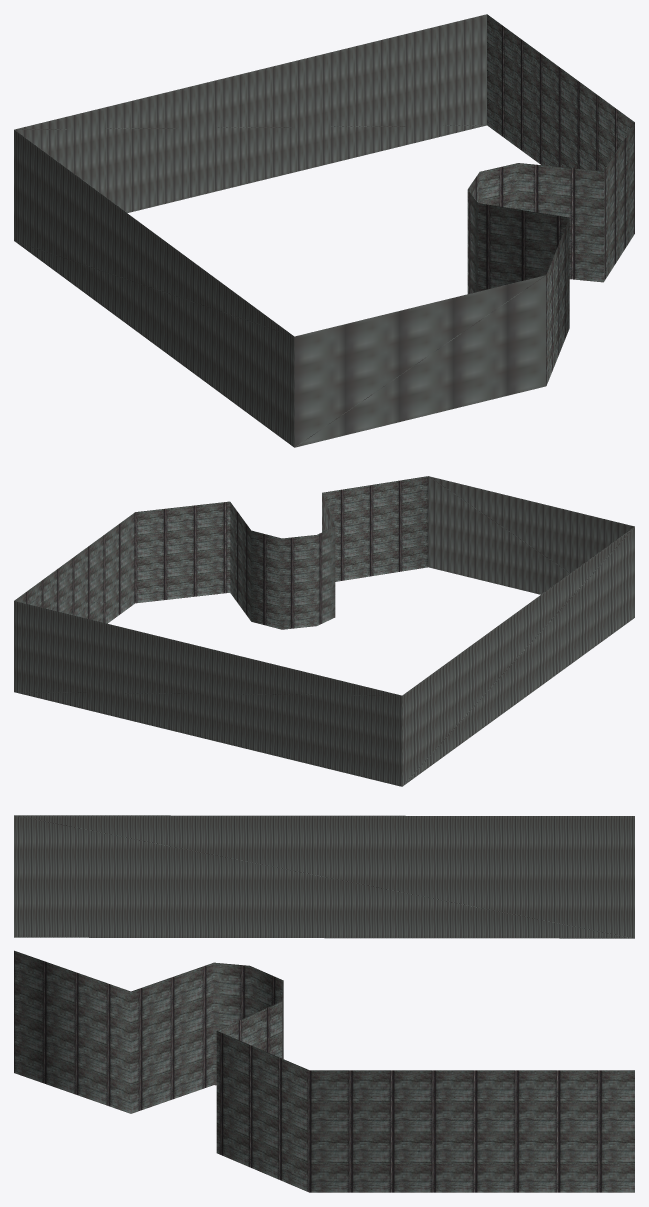
The model's file is LAKETOWN_EXTERIOR_PS_LT_LINE010.fbx.
3 renders of one model, top to bottom at view 1: azimuth 30°, elevation 25°; view 2: azimuth 150°, elevation 25°; view 3: azimuth 270°, elevation 25°, orthographic. The views are drawn at different scales.
Parts seen in each view (by area): view 1: LAKETOWN_EXTERIOR_PS_LT_LINE010; view 2: LAKETOWN_EXTERIOR_PS_LT_LINE010; view 3: LAKETOWN_EXTERIOR_PS_LT_LINE010.
Boxes of the visible parts, x1,y1,x2,y2 form: LAKETOWN_EXTERIOR_PS_LT_LINE010: (14,14,634,447); LAKETOWN_EXTERIOR_PS_LT_LINE010: (14,476,634,786); LAKETOWN_EXTERIOR_PS_LT_LINE010: (14,815,634,1192).
Size of the model in its own units: 322212 by 72150 by 331626.
1 material, 1 textured.
